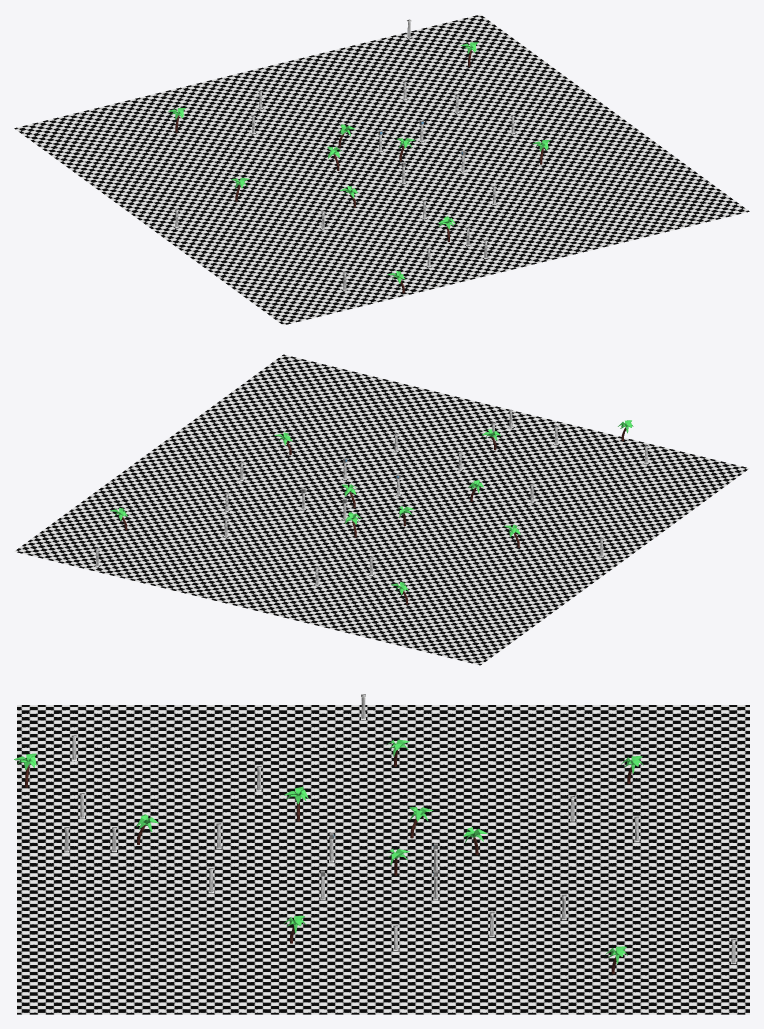
Rendered from Vaporwave_Dreams.glb.
The picture shows the model from 3 angles, top to bottom: view 1: azimuth 30°, elevation 25°; view 2: azimuth 150°, elevation 25°; view 3: azimuth 270°, elevation 25°; orthographic projection. The views are drawn at different scales.
Visible parts, largest first — view 1: GridPlane, Cylinder_2; view 2: GridPlane, Cylinder_2; view 3: GridPlane, Cylinder_2.
Boxes of the visible parts, <box> form: GridPlane: <box>14,14,749,325</box>; Cylinder_2: <box>174,19,515,290</box>; GridPlane: <box>14,354,749,665</box>; Cylinder_2: <box>95,409,648,585</box>; GridPlane: <box>17,705,749,1014</box>; Cylinder_2: <box>64,694,736,964</box>.
Bounding box in the file's own units: 96 × 4.11 × 96.4.
Materials: 6 (2 with a texture image).
